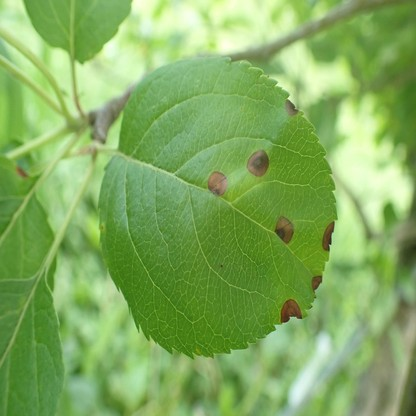frogeye_leaf_spot: (247, 150, 269, 177), (280, 299, 303, 322), (275, 216, 293, 243), (208, 171, 227, 195), (322, 222, 335, 251), (285, 100, 299, 116), (311, 275, 323, 292), (14, 166, 28, 178)
